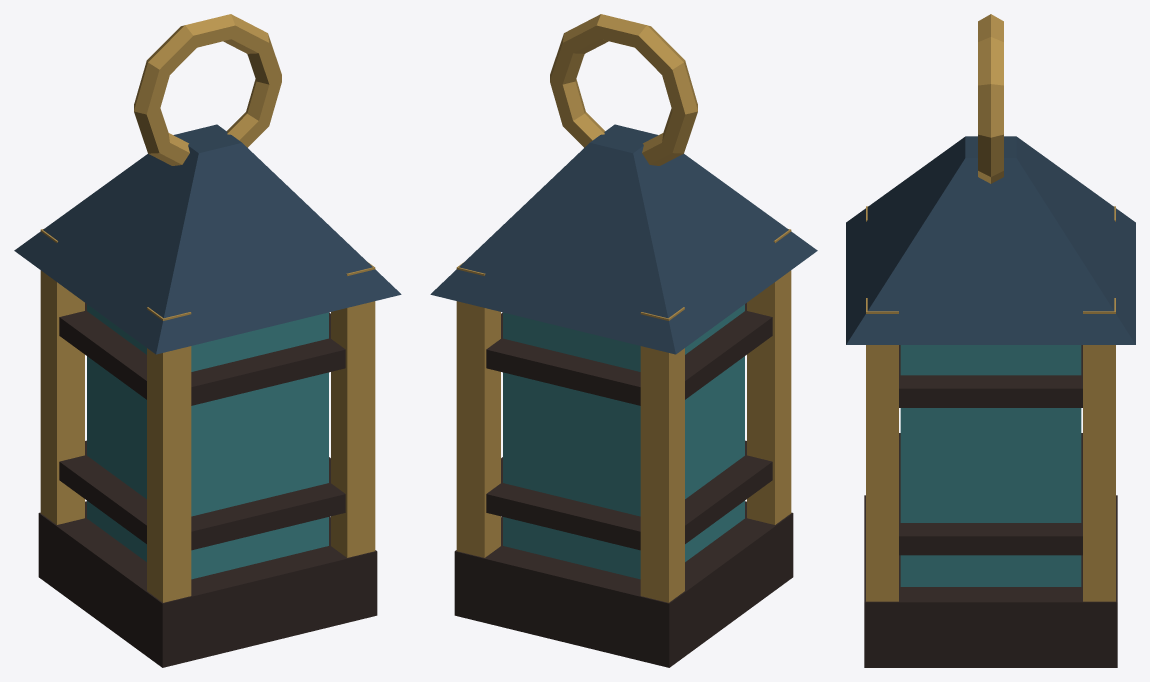
Rendered from PirateCove_HarborLantern_Showcase.glb.
The picture shows the model from 3 angles, left to right: view 1: azimuth 30°, elevation 25°; view 2: azimuth 150°, elevation 25°; view 3: azimuth 270°, elevation 25°; orthographic projection. The views are drawn at different scales.
Parts seen in each view (by area): view 1: PirateCove_HarborLantern_Showcase; view 2: PirateCove_HarborLantern_Showcase; view 3: PirateCove_HarborLantern_Showcase.
Boxes of the visible parts, bbox=[...] form: PirateCove_HarborLantern_Showcase: bbox=[14, 14, 401, 667]; PirateCove_HarborLantern_Showcase: bbox=[430, 14, 817, 667]; PirateCove_HarborLantern_Showcase: bbox=[846, 14, 1135, 667].
Size of the model in its own units: 0.4808 by 1.08 by 0.4808.
